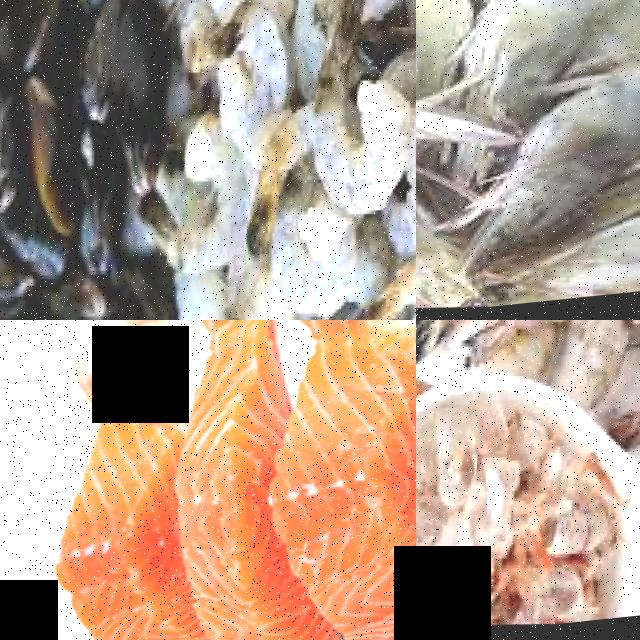salmon: (249, 324, 416, 640), (158, 363, 292, 632), (36, 443, 180, 640)
shrimp: (461, 0, 640, 102), (297, 73, 416, 223), (261, 202, 359, 320), (594, 320, 640, 454), (300, 0, 410, 44)
